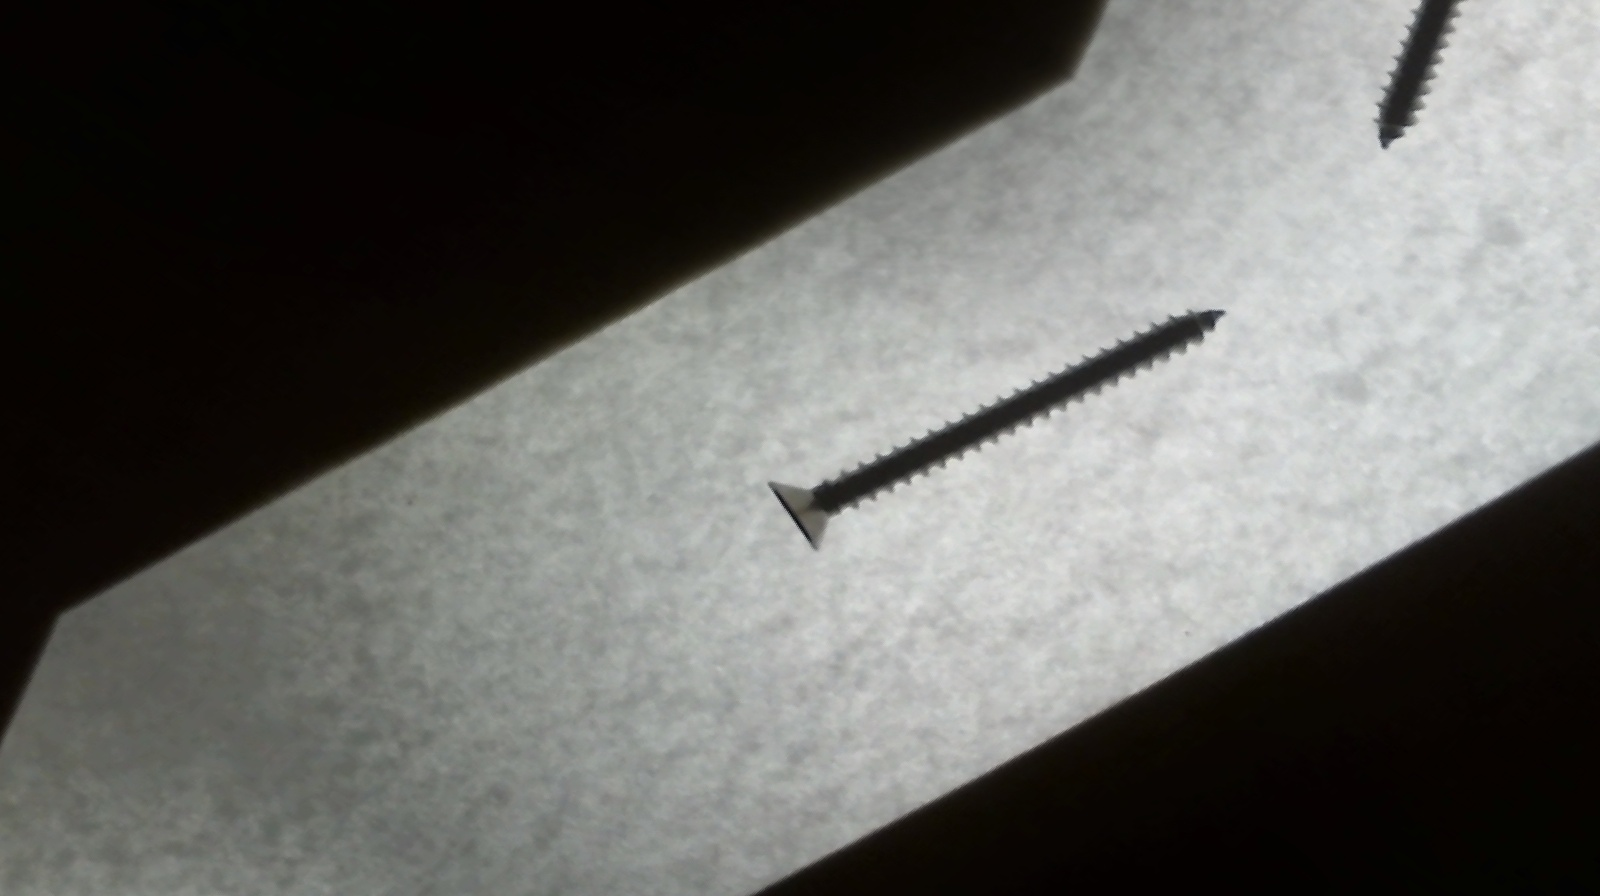S002: (719, 166, 1267, 645)
